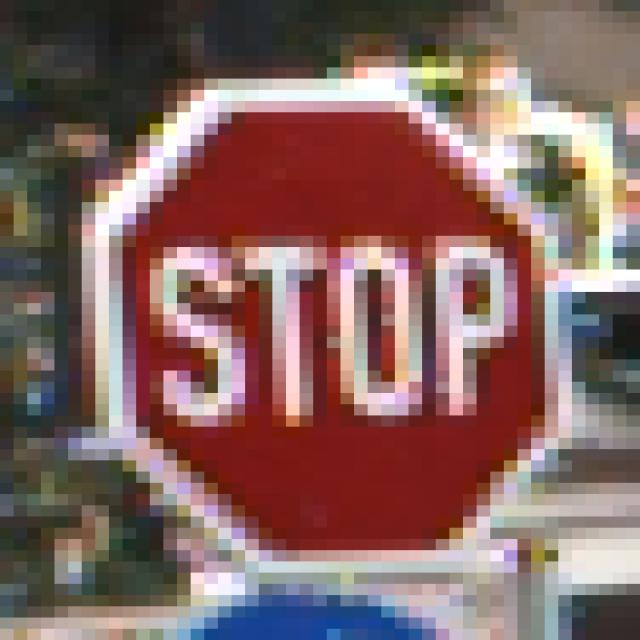STOP: (83, 57, 573, 585)
